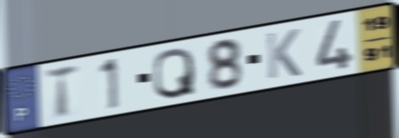1: (96, 56, 122, 112)
4: (314, 16, 356, 73)
8: (206, 37, 245, 92)
K: (264, 27, 304, 82)
Q: (151, 45, 198, 101)
T: (43, 62, 81, 121)
